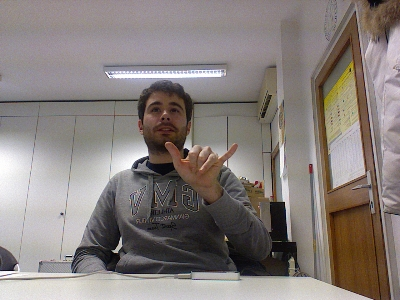六六六: (161, 138, 238, 198)
